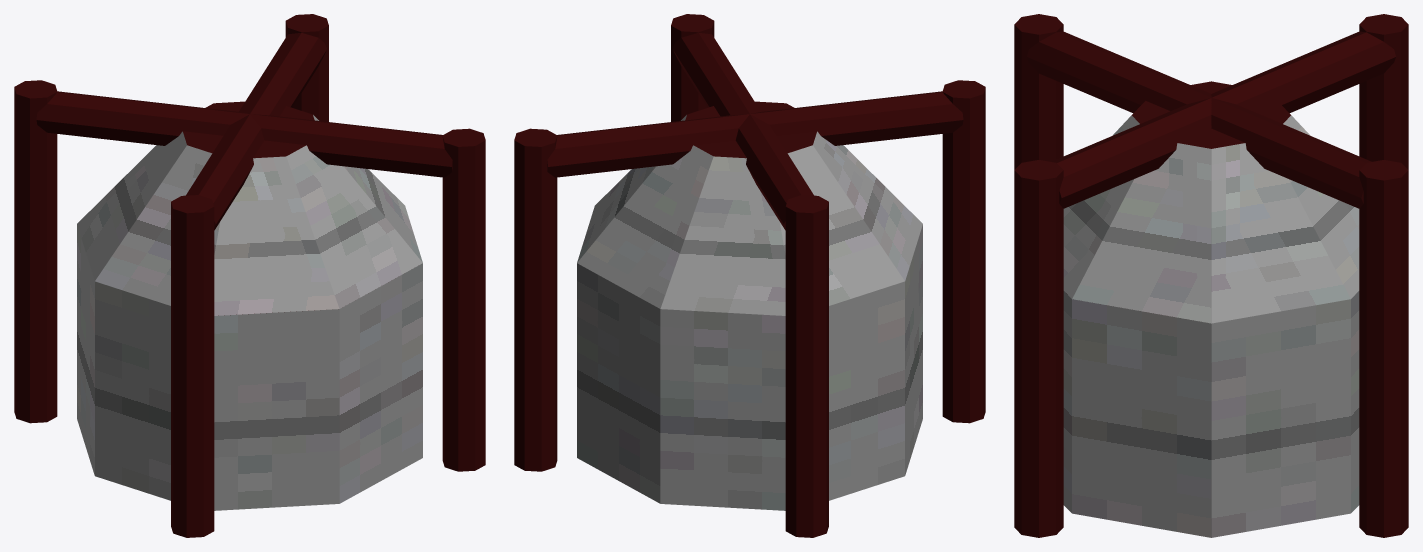
File: toptank.obj
3 renders of one model, left to right at view 1: azimuth 30°, elevation 25°; view 2: azimuth 150°, elevation 25°; view 3: azimuth 270°, elevation 25°, orthographic. The views are drawn at different scales.
Visible parts, largest first — view 1: Cylinder, Cylinder2, Cylinder1, Cylinder5, Cylinder3, Cylinder6, Cylinder4; view 2: Cylinder, Cylinder3, Cylinder4, Cylinder6, Cylinder2, Cylinder5, Cylinder1; view 3: Cylinder, Cylinder4, Cylinder1, Cylinder6, Cylinder5, Cylinder3, Cylinder2.
Boxes of the visible parts, x1=… form: Cylinder: x1=77, y1=101, x2=422, y2=510; Cylinder2: x1=171, y1=195, x2=214, y2=537; Cylinder1: x1=442, y1=128, x2=485, y2=471; Cylinder5: x1=36, y1=91, x2=452, y2=177; Cylinder3: x1=14, y1=80, x2=57, y2=423; Cylinder6: x1=186, y1=32, x2=326, y2=230; Cylinder4: x1=285, y1=14, x2=328, y2=121; Cylinder: x1=577, y1=101, x2=922, y2=510; Cylinder3: x1=785, y1=195, x2=828, y2=537; Cylinder4: x1=514, y1=128, x2=557, y2=471; Cylinder6: x1=547, y1=91, x2=963, y2=177; Cylinder2: x1=942, y1=80, x2=985, y2=423; Cylinder5: x1=673, y1=32, x2=813, y2=230; Cylinder1: x1=671, y1=14, x2=714, y2=121; Cylinder: x1=1063, y1=81, x2=1359, y2=537; Cylinder4: x1=1359, y1=160, x2=1408, y2=537; Cylinder1: x1=1014, y1=160, x2=1063, y2=537; Cylinder6: x1=1027, y1=31, x2=1371, y2=208; Cylinder5: x1=1051, y1=31, x2=1395, y2=208; Cylinder3: x1=1359, y1=14, x2=1408, y2=169; Cylinder2: x1=1014, y1=14, x2=1063, y2=169.
Bounding box in the file's own units: 1 × 1 × 1.
